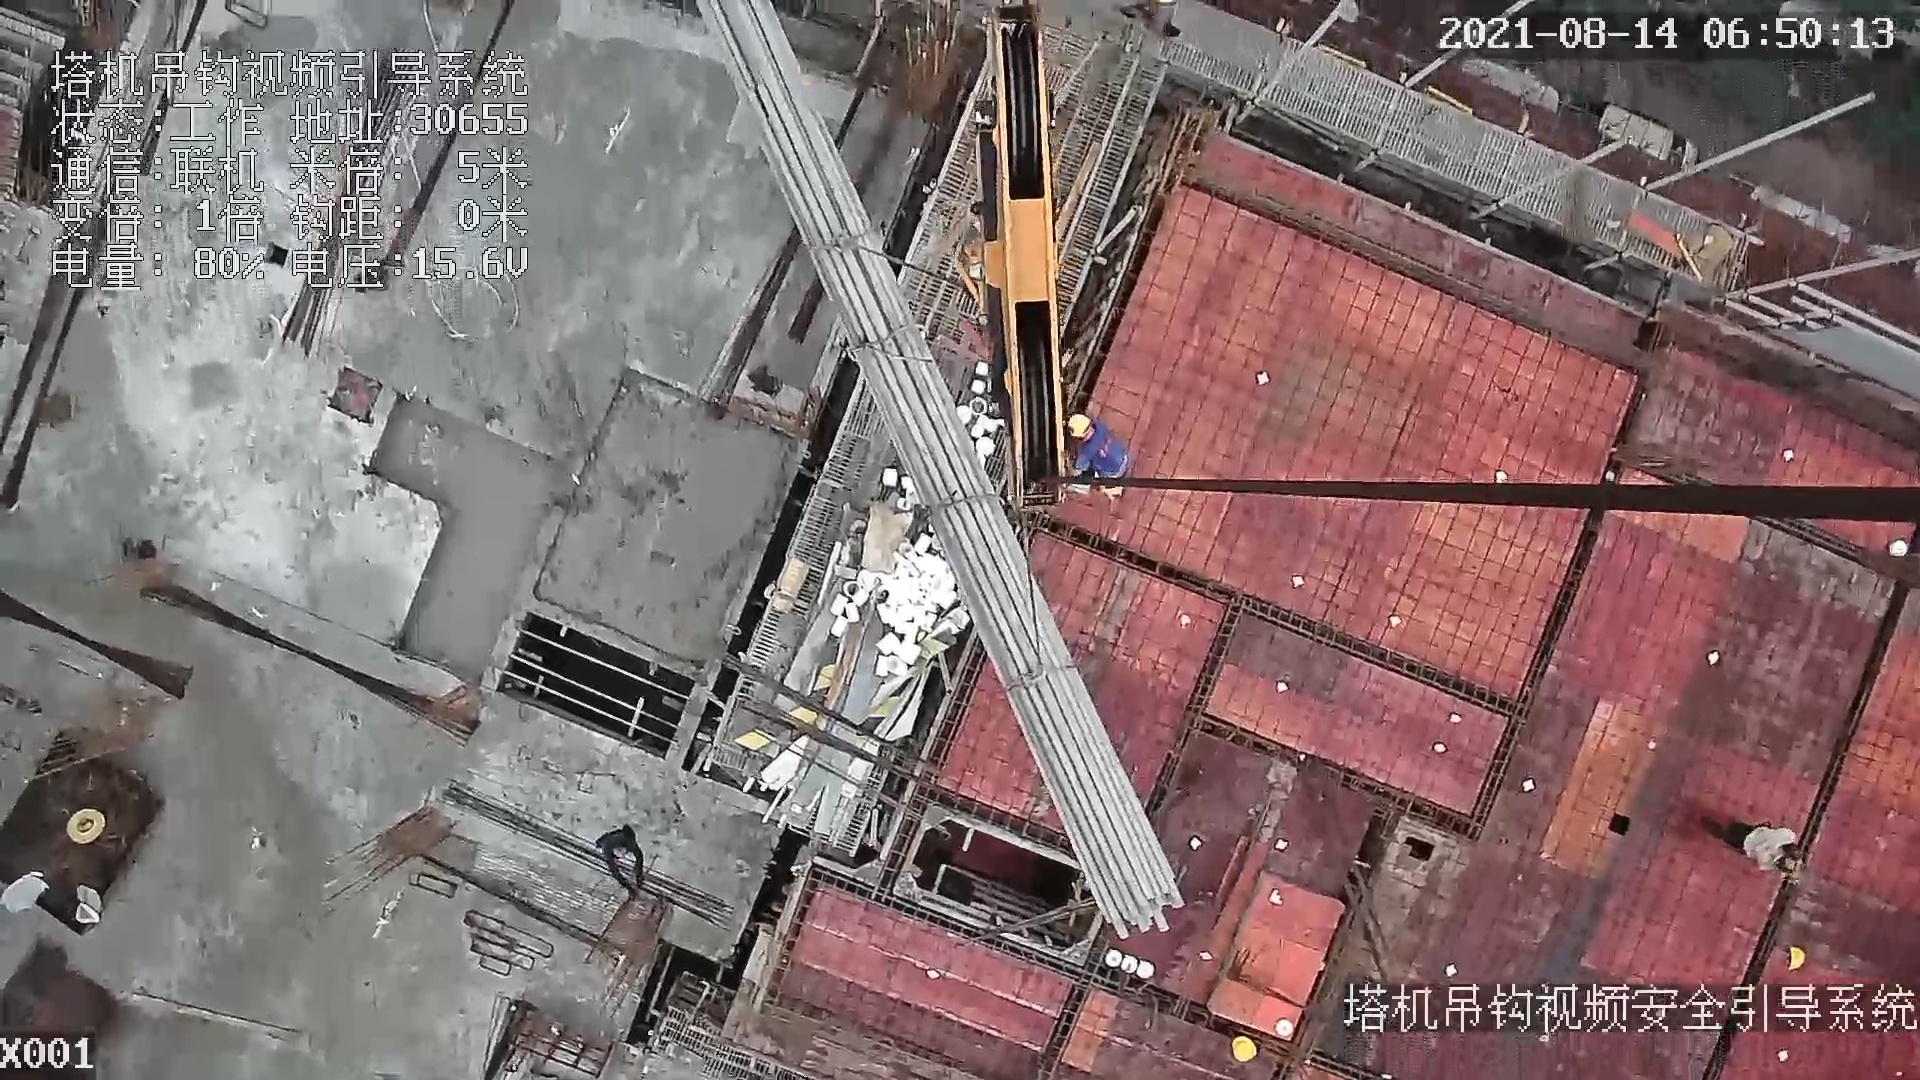helmet: (1220, 1027, 1280, 1077), (1778, 923, 1813, 978), (1070, 410, 1091, 442)
hook: (935, 3, 1083, 515)
person: (1699, 804, 1808, 878), (1067, 404, 1132, 495), (592, 814, 650, 904)
